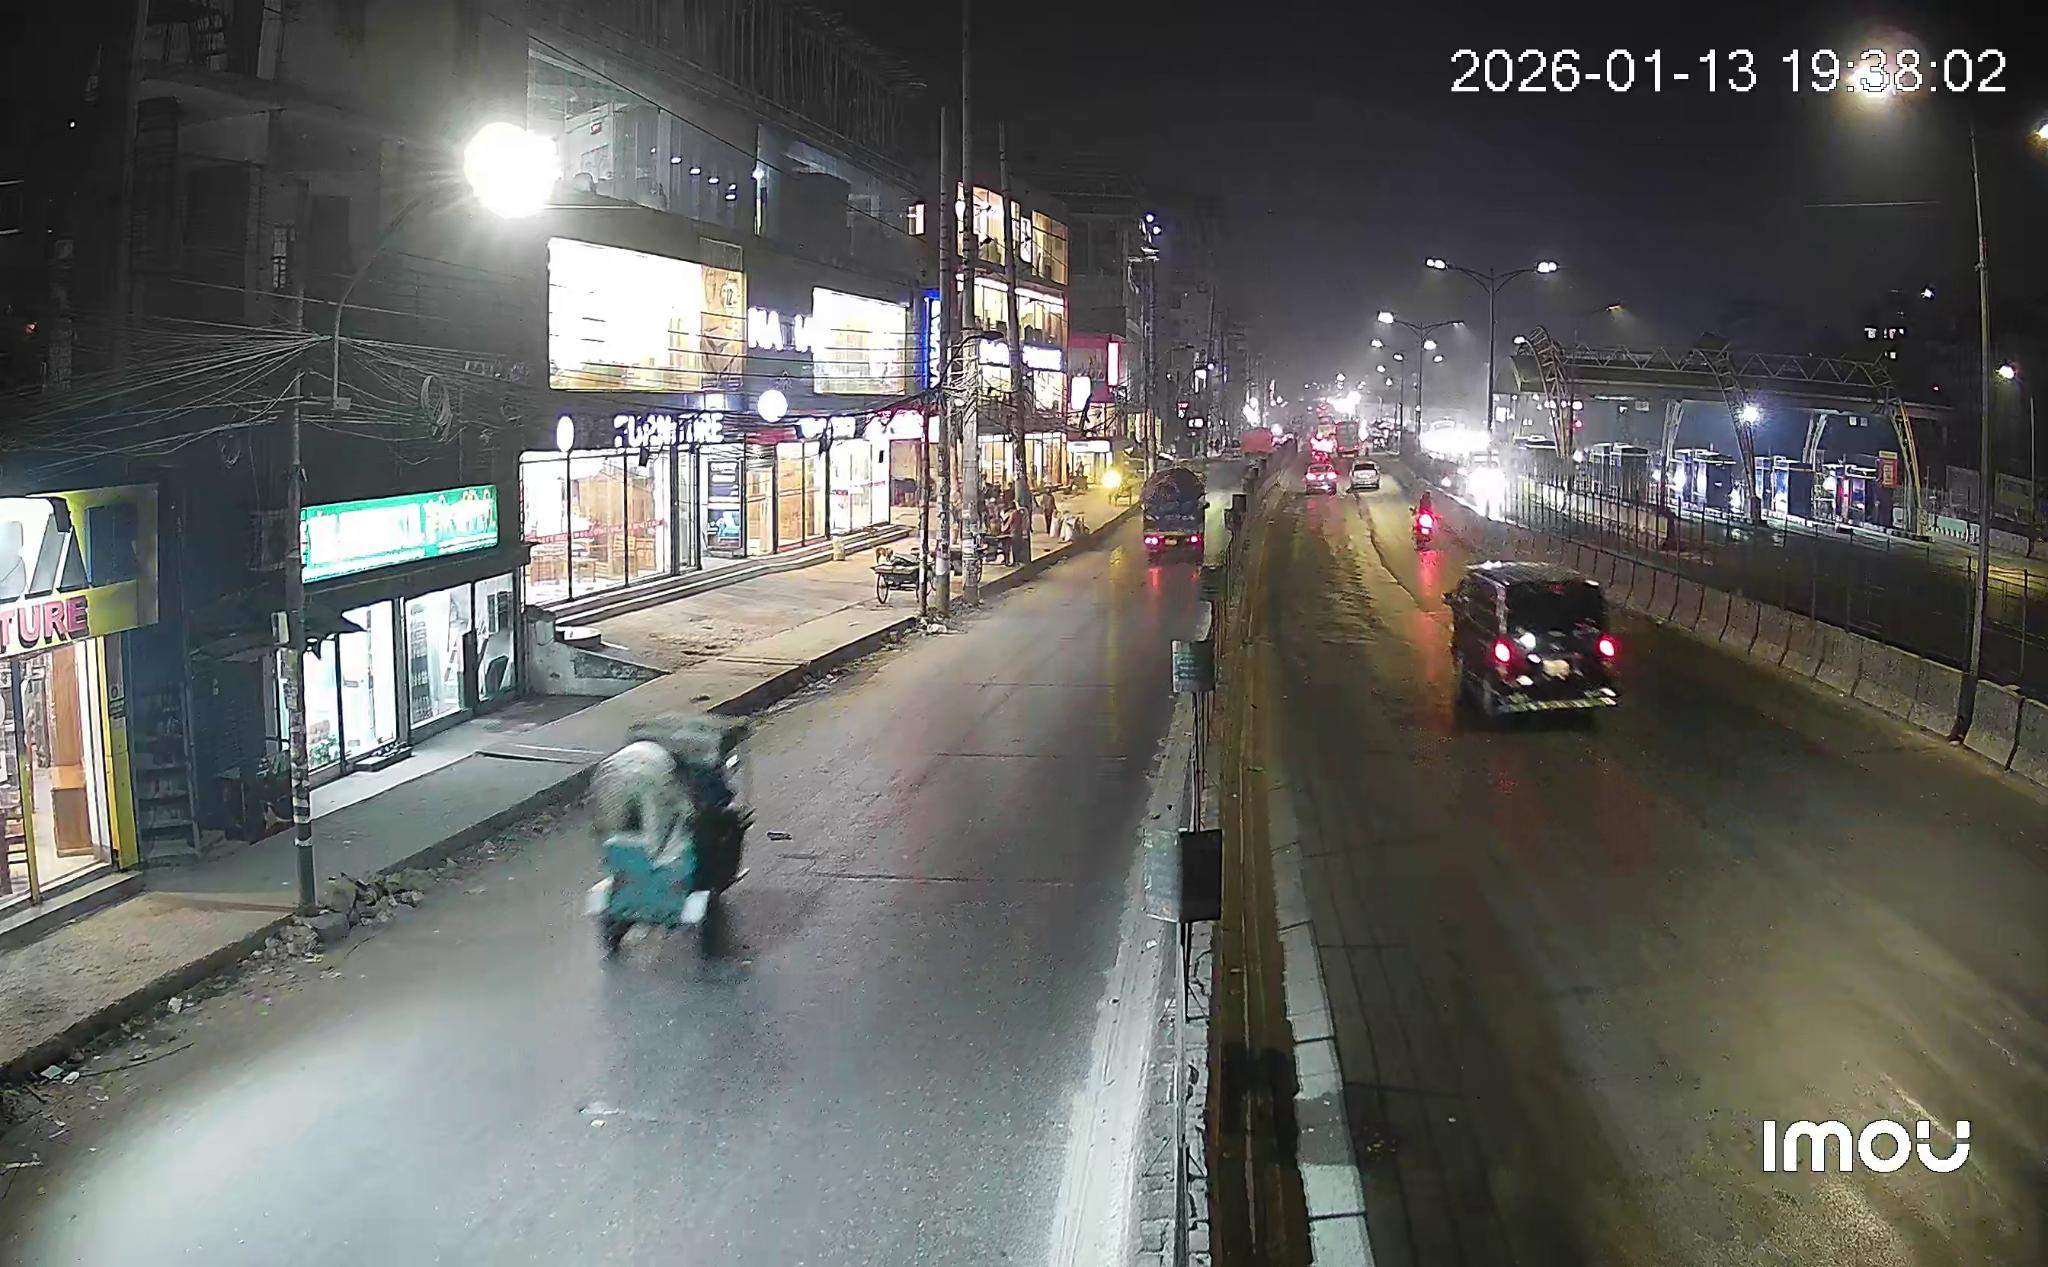Auto Rickshaw: (587, 713, 753, 958)
Jeep-SUV: (1441, 560, 1619, 718)
Truck: (1140, 467, 1208, 562)
